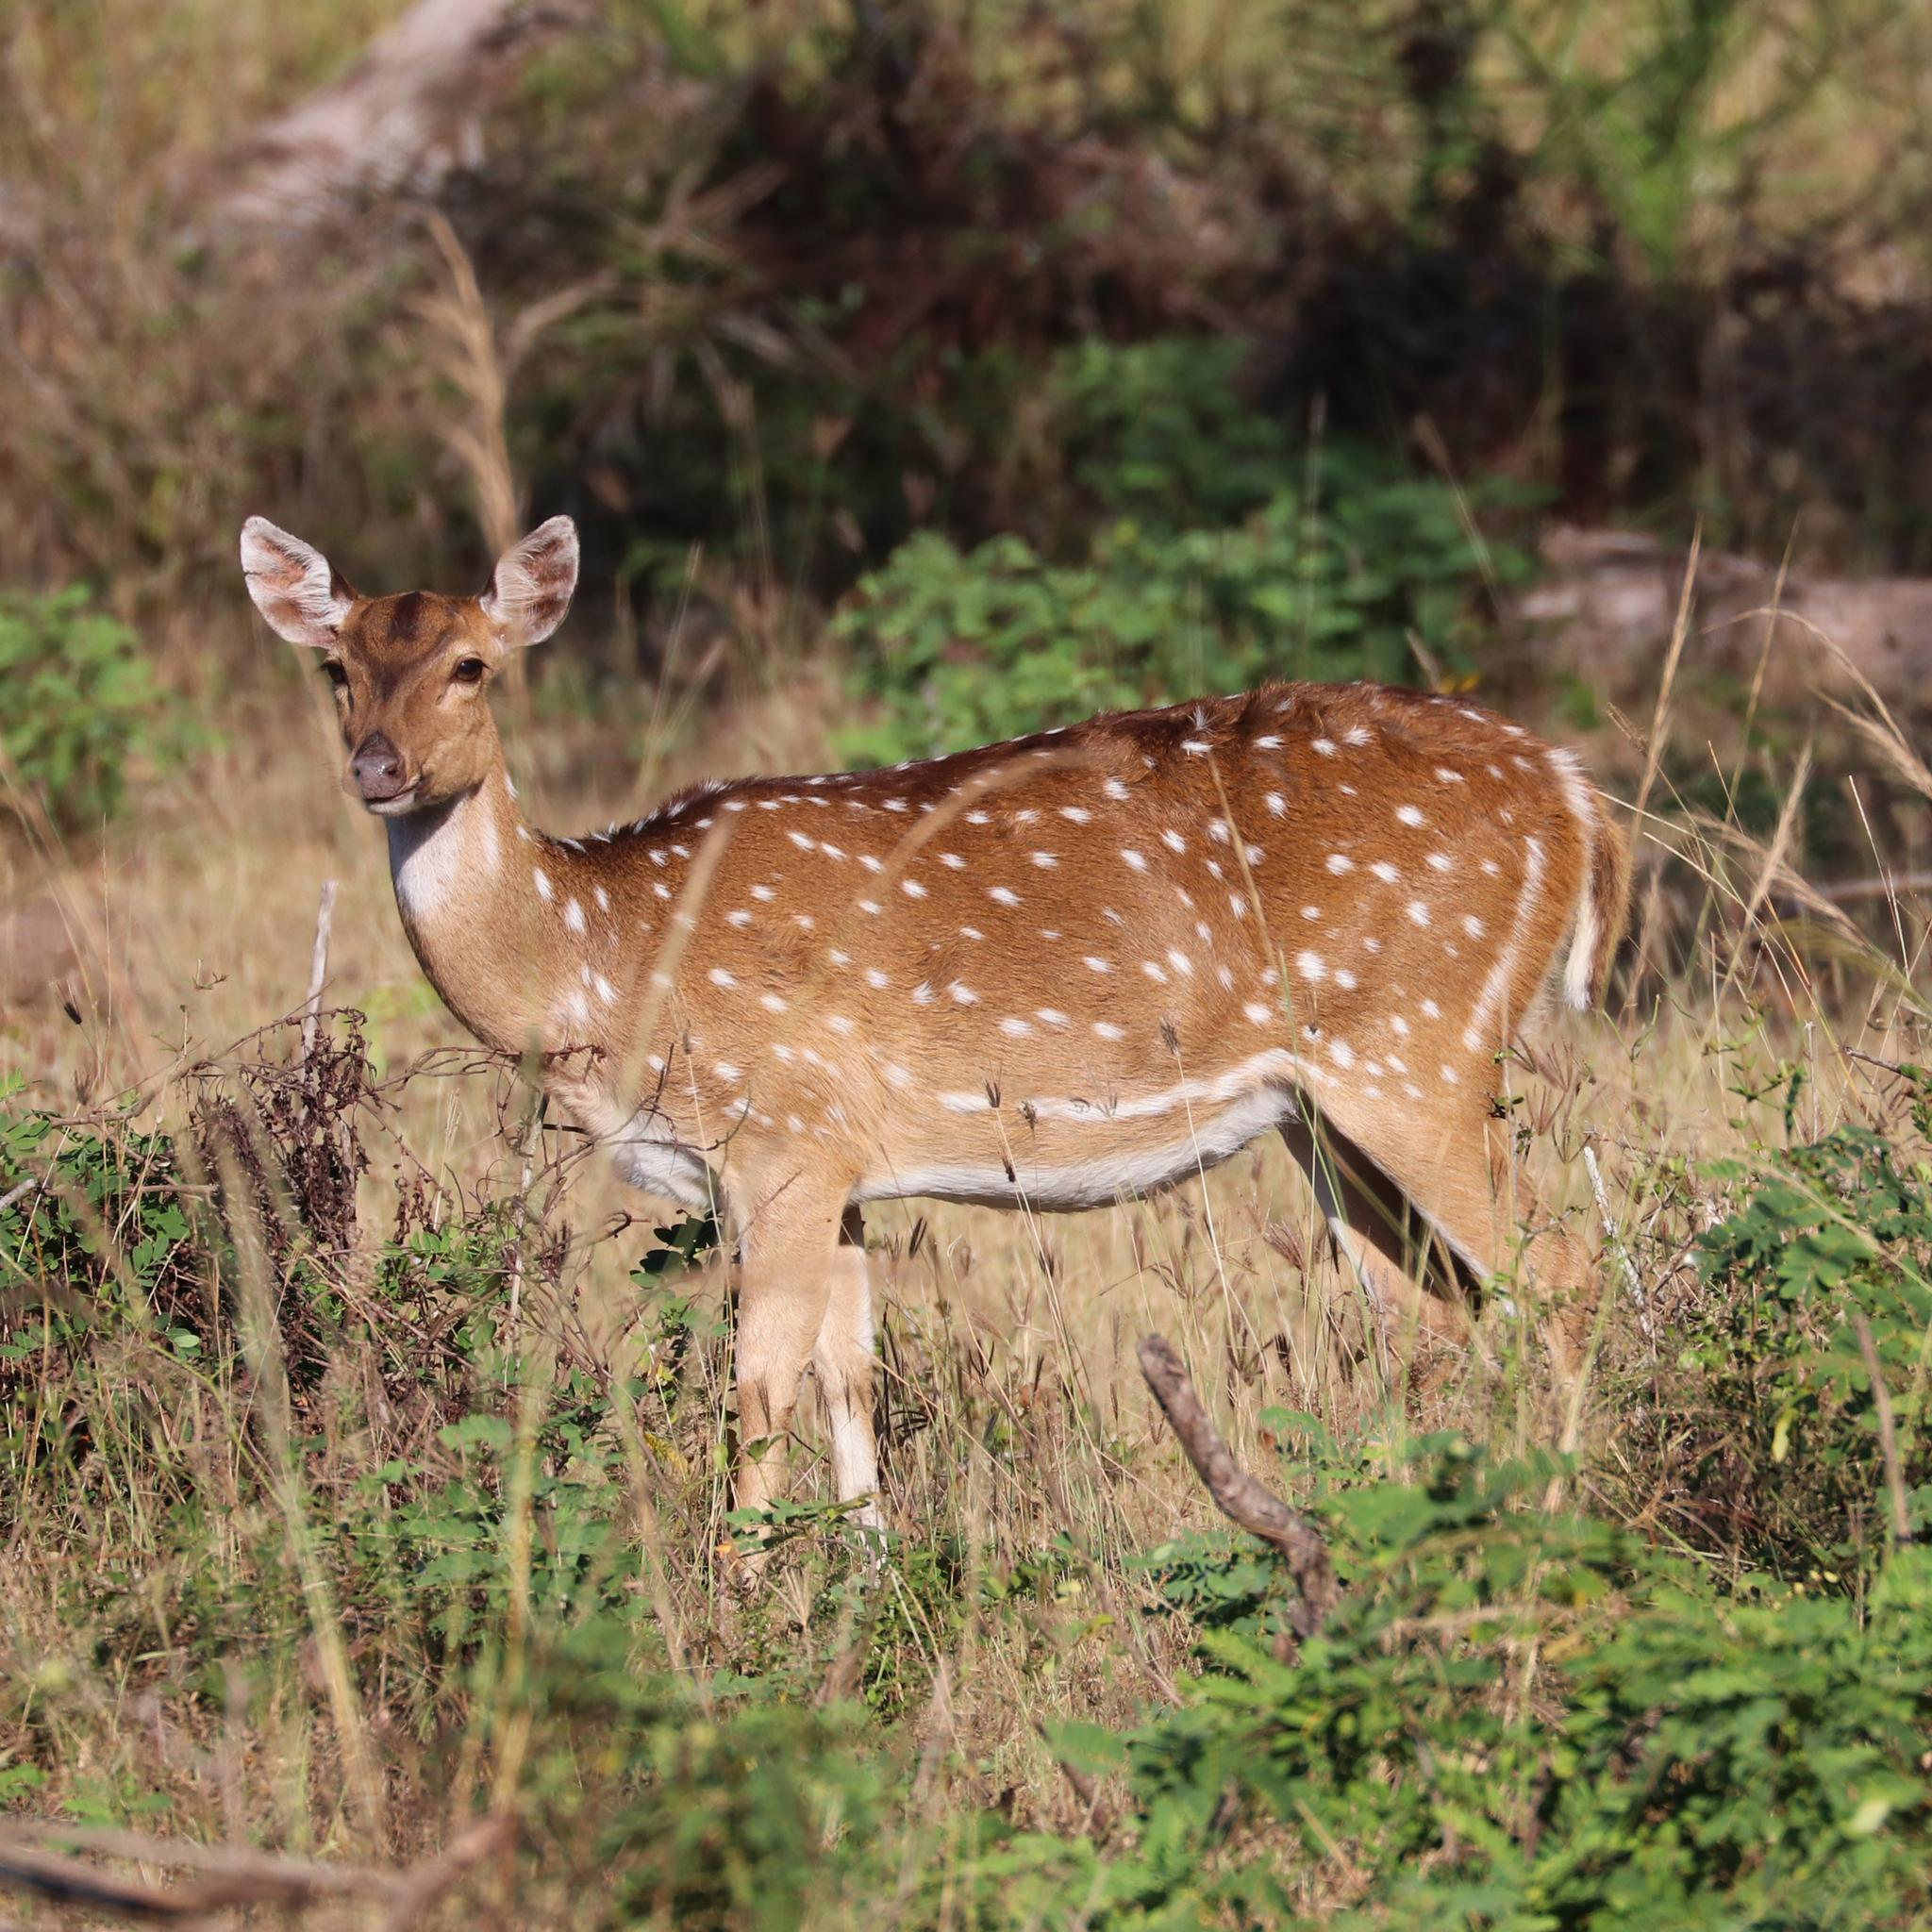Deer: (241, 517, 1626, 1507)
